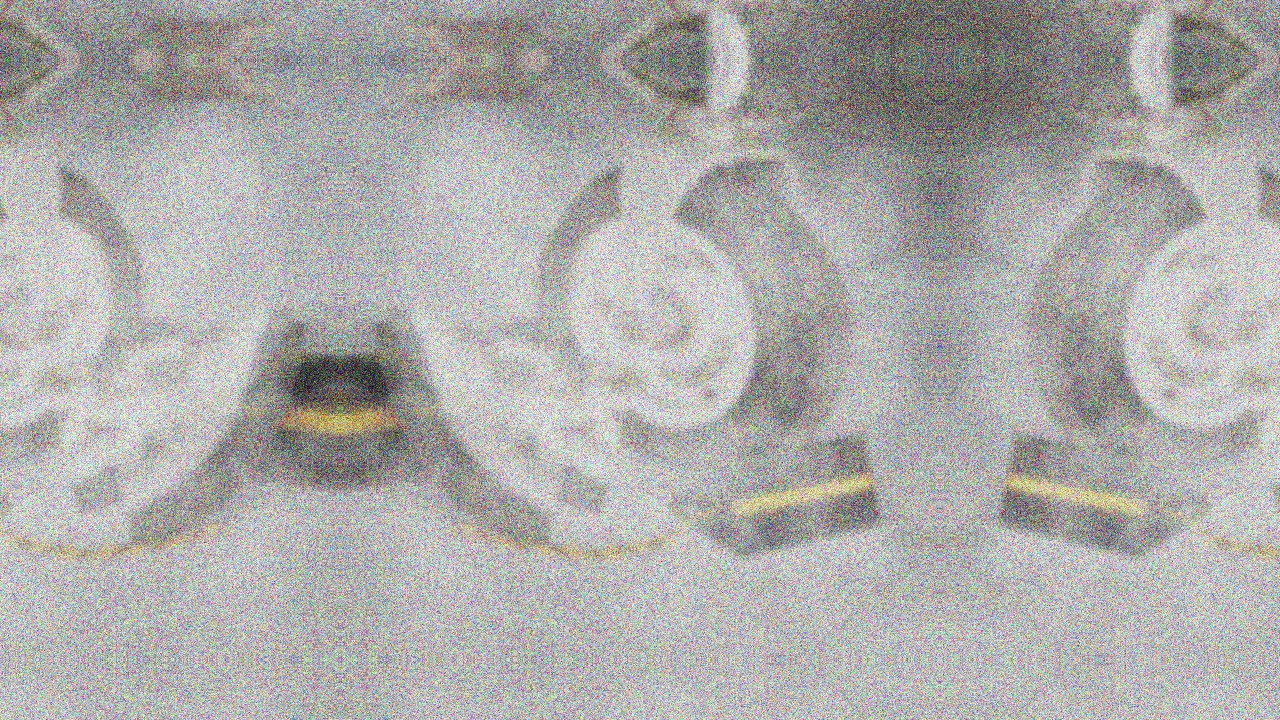chock: (43, 303, 340, 514), (340, 303, 637, 514), (92, 298, 340, 547), (340, 298, 588, 547), (655, 392, 903, 591), (977, 392, 1225, 591), (0, 282, 236, 448), (444, 282, 680, 448), (181, 293, 340, 423), (340, 293, 499, 423), (1200, 282, 1280, 448), (1243, 303, 1280, 514), (0, 392, 25, 591)
wheel: (499, 130, 883, 498), (997, 130, 1280, 498), (0, 130, 181, 498)
